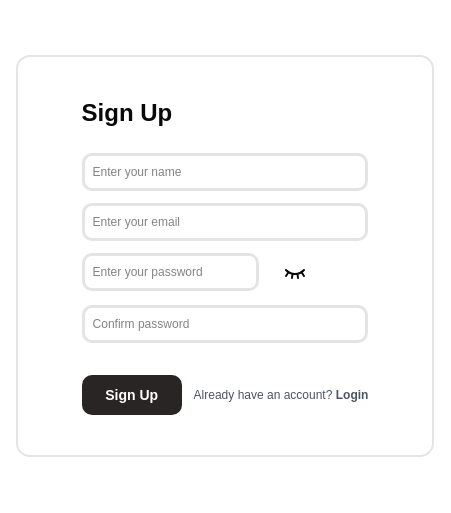
Test: Signup Page › should display error messages when fields are empty
Expected: the heading "Sign Up" is shown, x1=82 y1=97 x2=172 y2=129
Click the submit button: {"x": 132, "y": 395} x1=82 y1=375 x2=182 y2=415
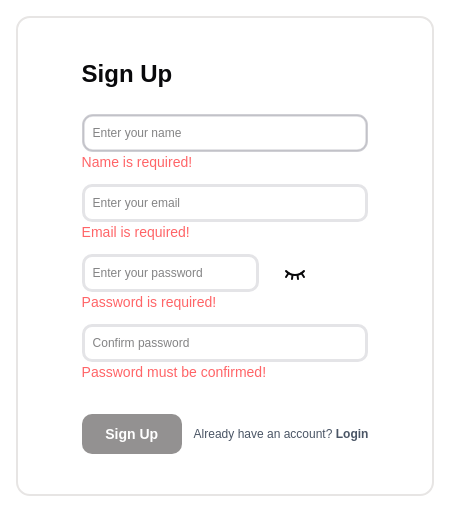
Now the text "Name is required!" is shown, box x1=82 y1=154 x2=192 y2=170
Now the text "Email is required!" is shown, box x1=82 y1=224 x2=190 y2=240
Now the text "Password is required!" is shown, box x1=82 y1=294 x2=216 y2=310
